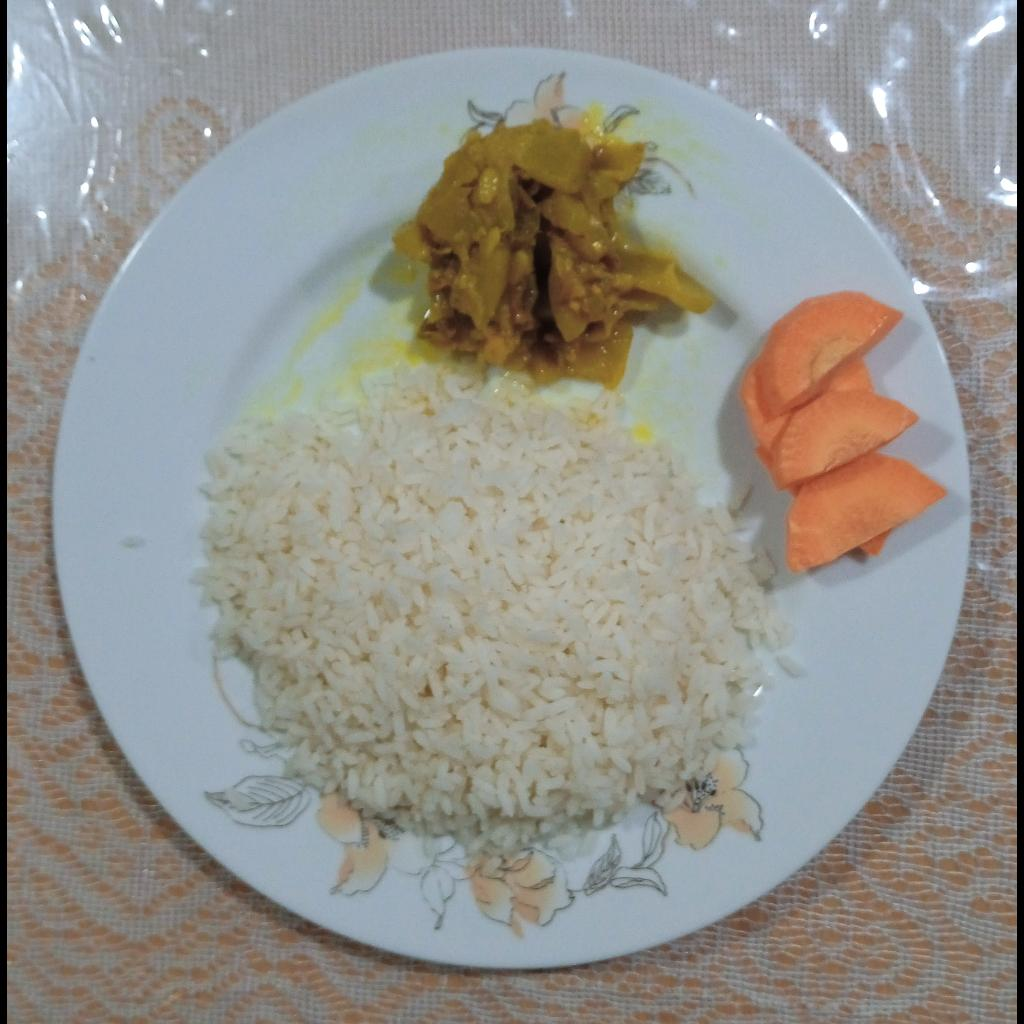carrot: (739, 290, 949, 573)
lau: (397, 118, 713, 386)
rice: (202, 365, 804, 854)
